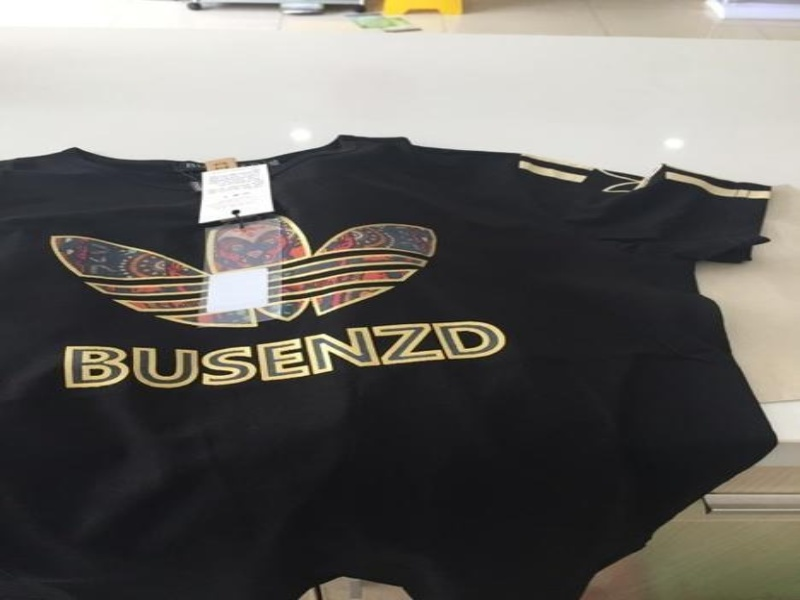short_sleeved_shirt: (0, 136, 785, 599)
